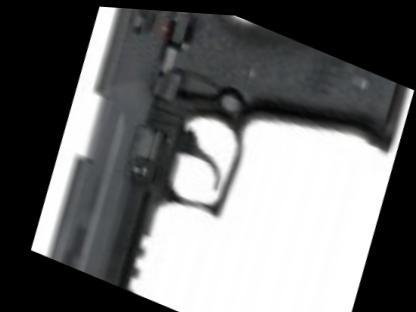pistol: (8, 0, 415, 311)
